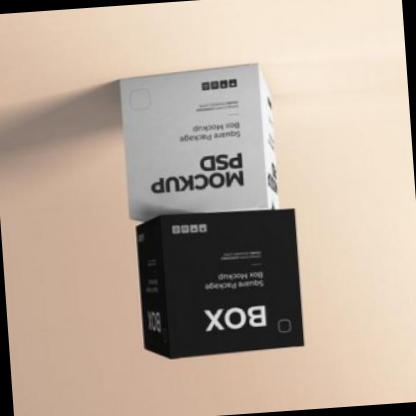box: (104, 56, 286, 238), (124, 195, 312, 366)
